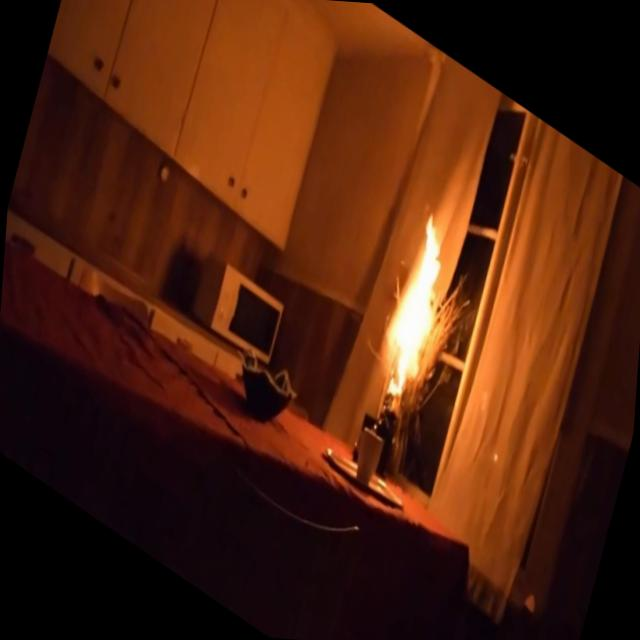fire: (328, 164, 487, 477)
